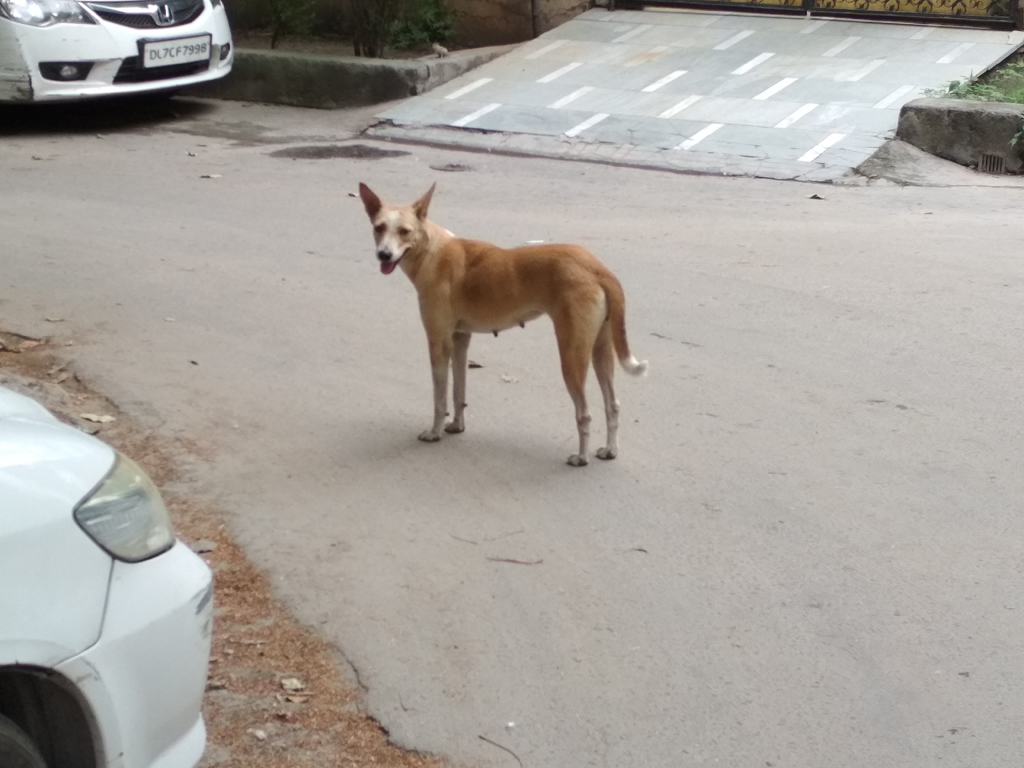dog: (357, 182, 651, 467)
